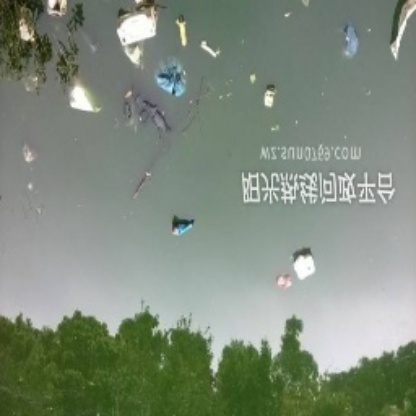plastic-bag: (149, 52, 195, 100)
plastic-garbage: (290, 251, 321, 282)
